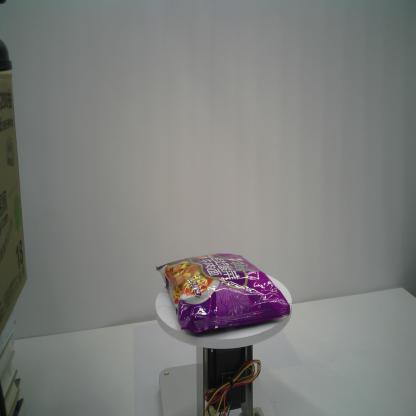Instant Noodles: (155, 252, 290, 333)
